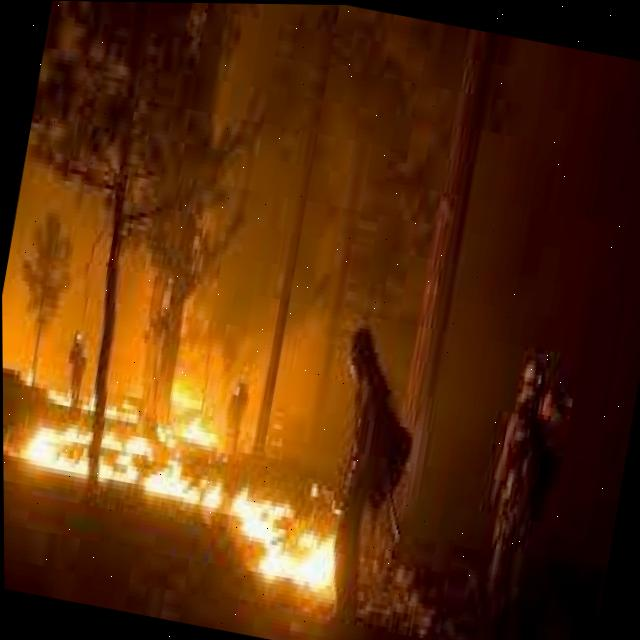fire: (22, 412, 295, 533), (256, 527, 342, 596)
smoke: (171, 3, 407, 458), (459, 35, 640, 375), (2, 147, 118, 391)
